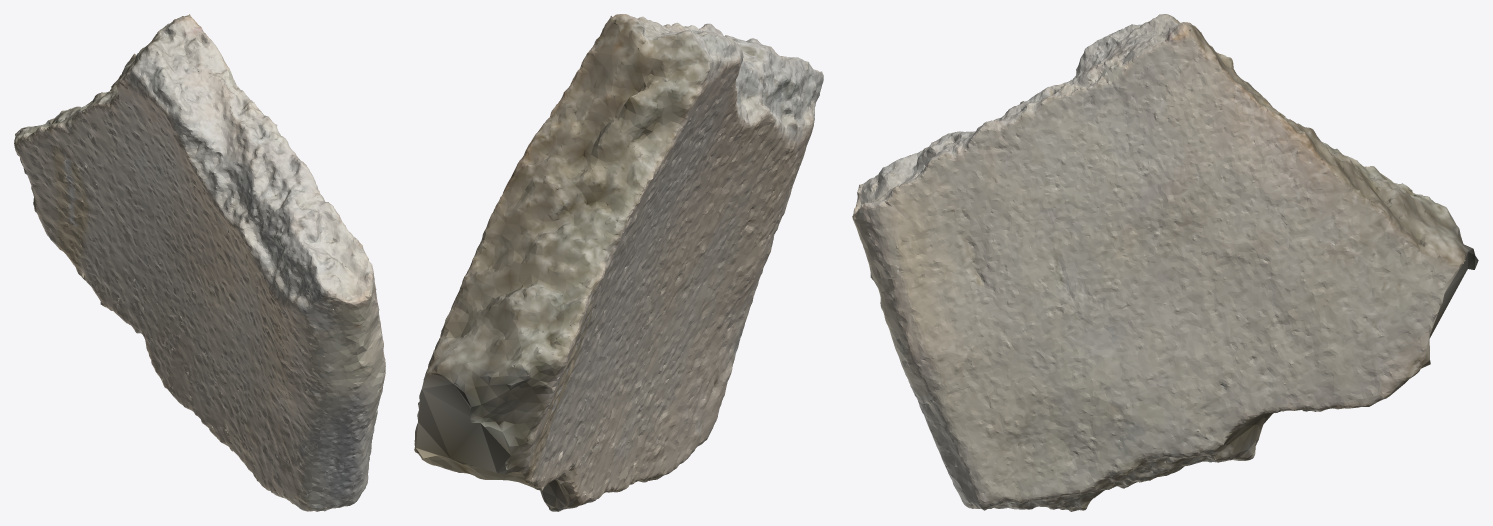
File: glb0113_LOD0.glb
3 views of the same model, side by side, from view 1: azimuth 30°, elevation 25°; view 2: azimuth 150°, elevation 25°; view 3: azimuth 270°, elevation 25° (orthographic). The views are drawn at different scales.
Parts seen in each view (by area): view 1: Mesh_0_Part_0; view 2: Mesh_0_Part_0; view 3: Mesh_0_Part_0.
Part boxes in pixels (<box>): Mesh_0_Part_0: <box>14,14,385,511</box>; Mesh_0_Part_0: <box>414,14,823,511</box>; Mesh_0_Part_0: <box>852,14,1478,511</box>.
Size of the model in its own units: 8.23 by 22.71 by 27.81.
